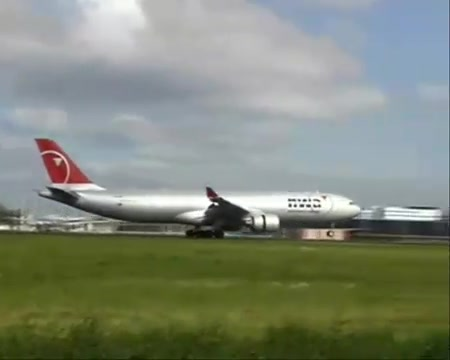aeroplane: (33, 135, 363, 241)
